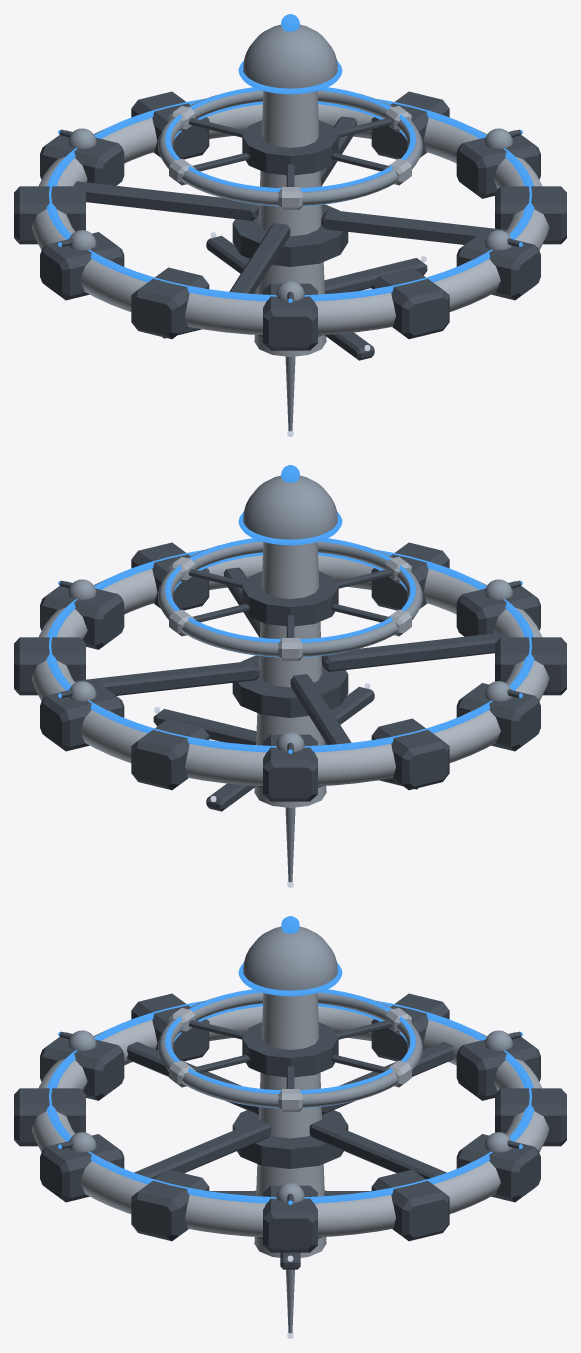
3 views of the same model, one above another, from view 1: azimuth 30°, elevation 25°; view 2: azimuth 150°, elevation 25°; view 3: azimuth 270°, elevation 25° (orthographic).
Visible parts, largest first — view 1: hull2, hull, trim, team_glow; view 2: hull2, hull, trim, team_glow; view 3: hull2, hull, trim, team_glow.
Boxes of the visible parts, x1,y1,x2,y2 form: hull2: [14, 91, 566, 360]; hull: [31, 91, 549, 356]; trim: [68, 24, 512, 431]; team_glow: [46, 14, 534, 302]; hull2: [14, 542, 566, 811]; hull: [31, 542, 549, 807]; trim: [68, 475, 512, 882]; team_glow: [46, 465, 534, 753]; hull2: [14, 993, 566, 1269]; hull: [31, 993, 549, 1257]; trim: [68, 926, 512, 1333]; team_glow: [46, 916, 534, 1204].
Bounding box in the file's own units: 11.5 × 9.68 × 11.5.
